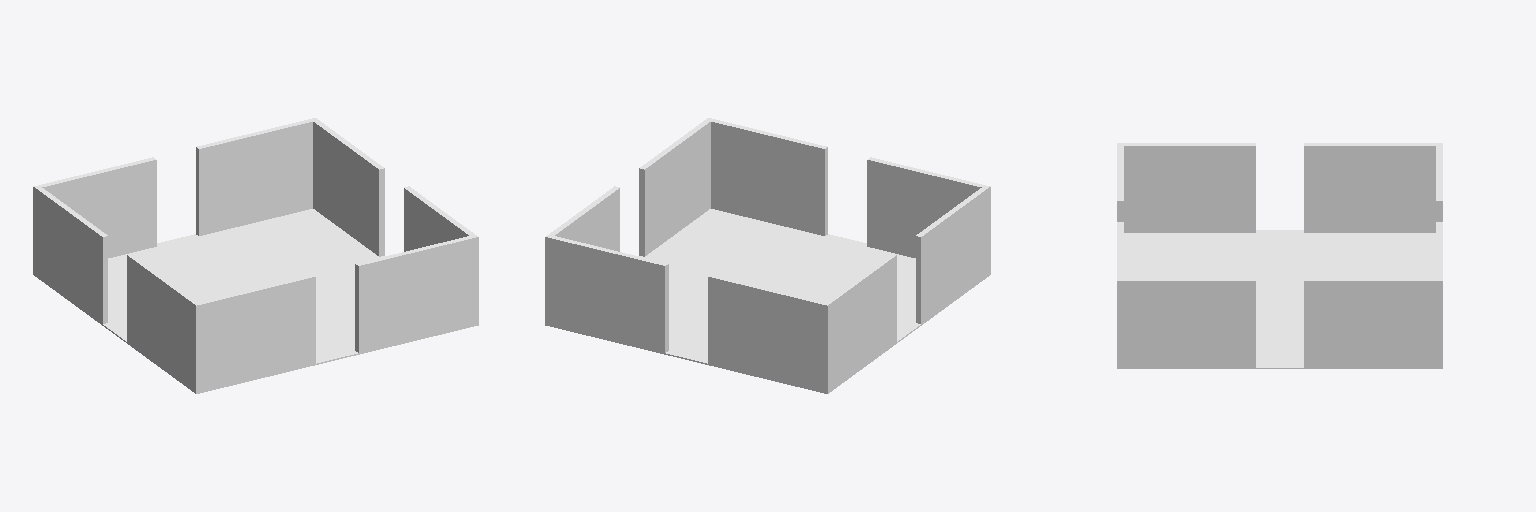
The model's file is game-11.obj.
3 views of the same model, side by side, from view 1: azimuth 30°, elevation 25°; view 2: azimuth 150°, elevation 25°; view 3: azimuth 270°, elevation 25° (orthographic).
Visible parts, largest first — view 1: object 1; view 2: object 1; view 3: object 1.
Boxes of the visible parts, <box> form: object 1: <box>33,118,478,393</box>; object 1: <box>545,118,990,393</box>; object 1: <box>1117,143,1442,368</box>.
Bounding box in the file's own units: 20 × 6 × 20.